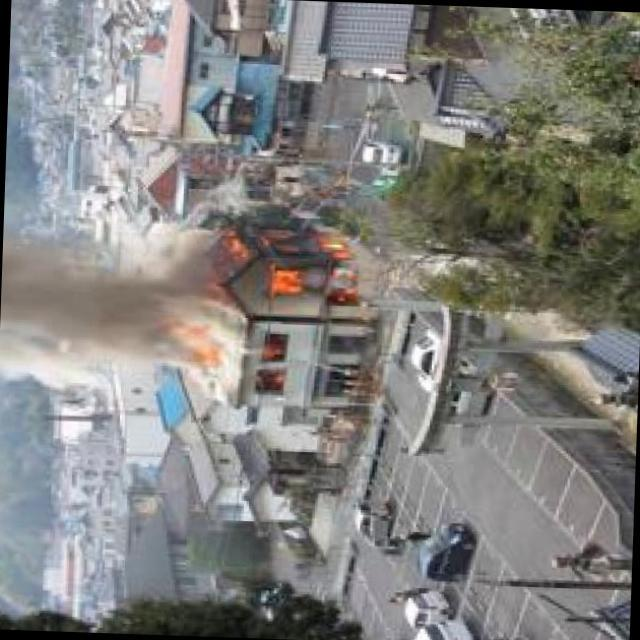Fire: (229, 219, 367, 310)
